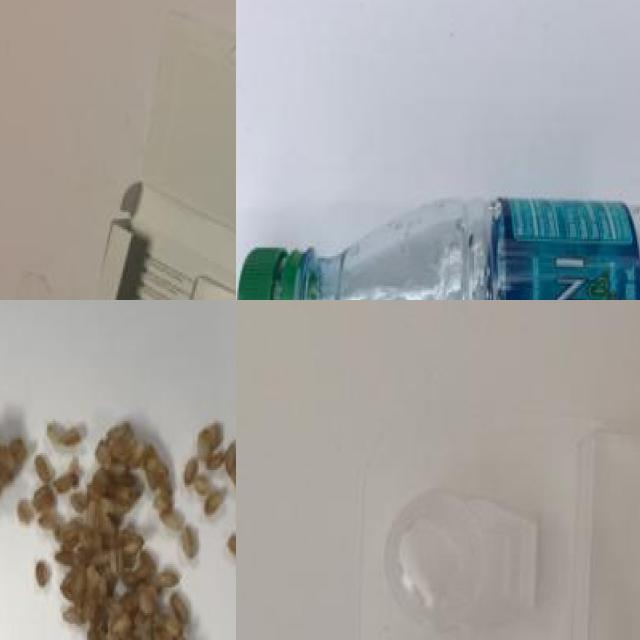compost: (0, 343, 236, 640)
plastic: (366, 402, 640, 640), (238, 196, 640, 300)
trash: (76, 0, 236, 300)
